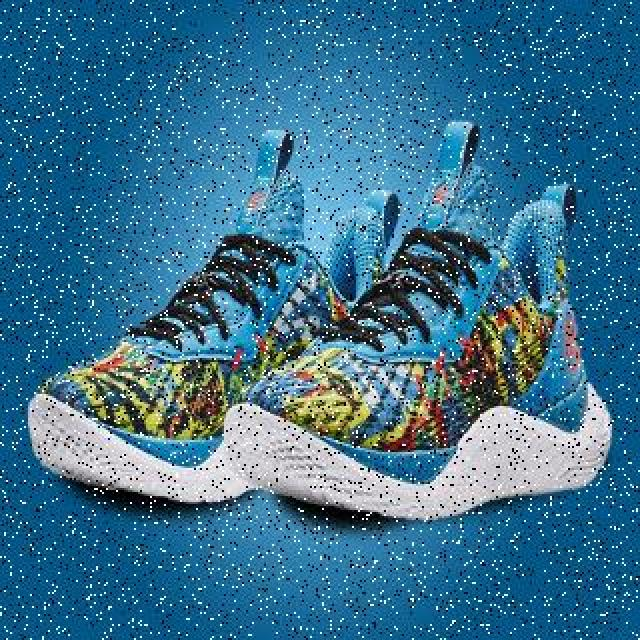shoe: (227, 131, 613, 523), (30, 129, 408, 507)
